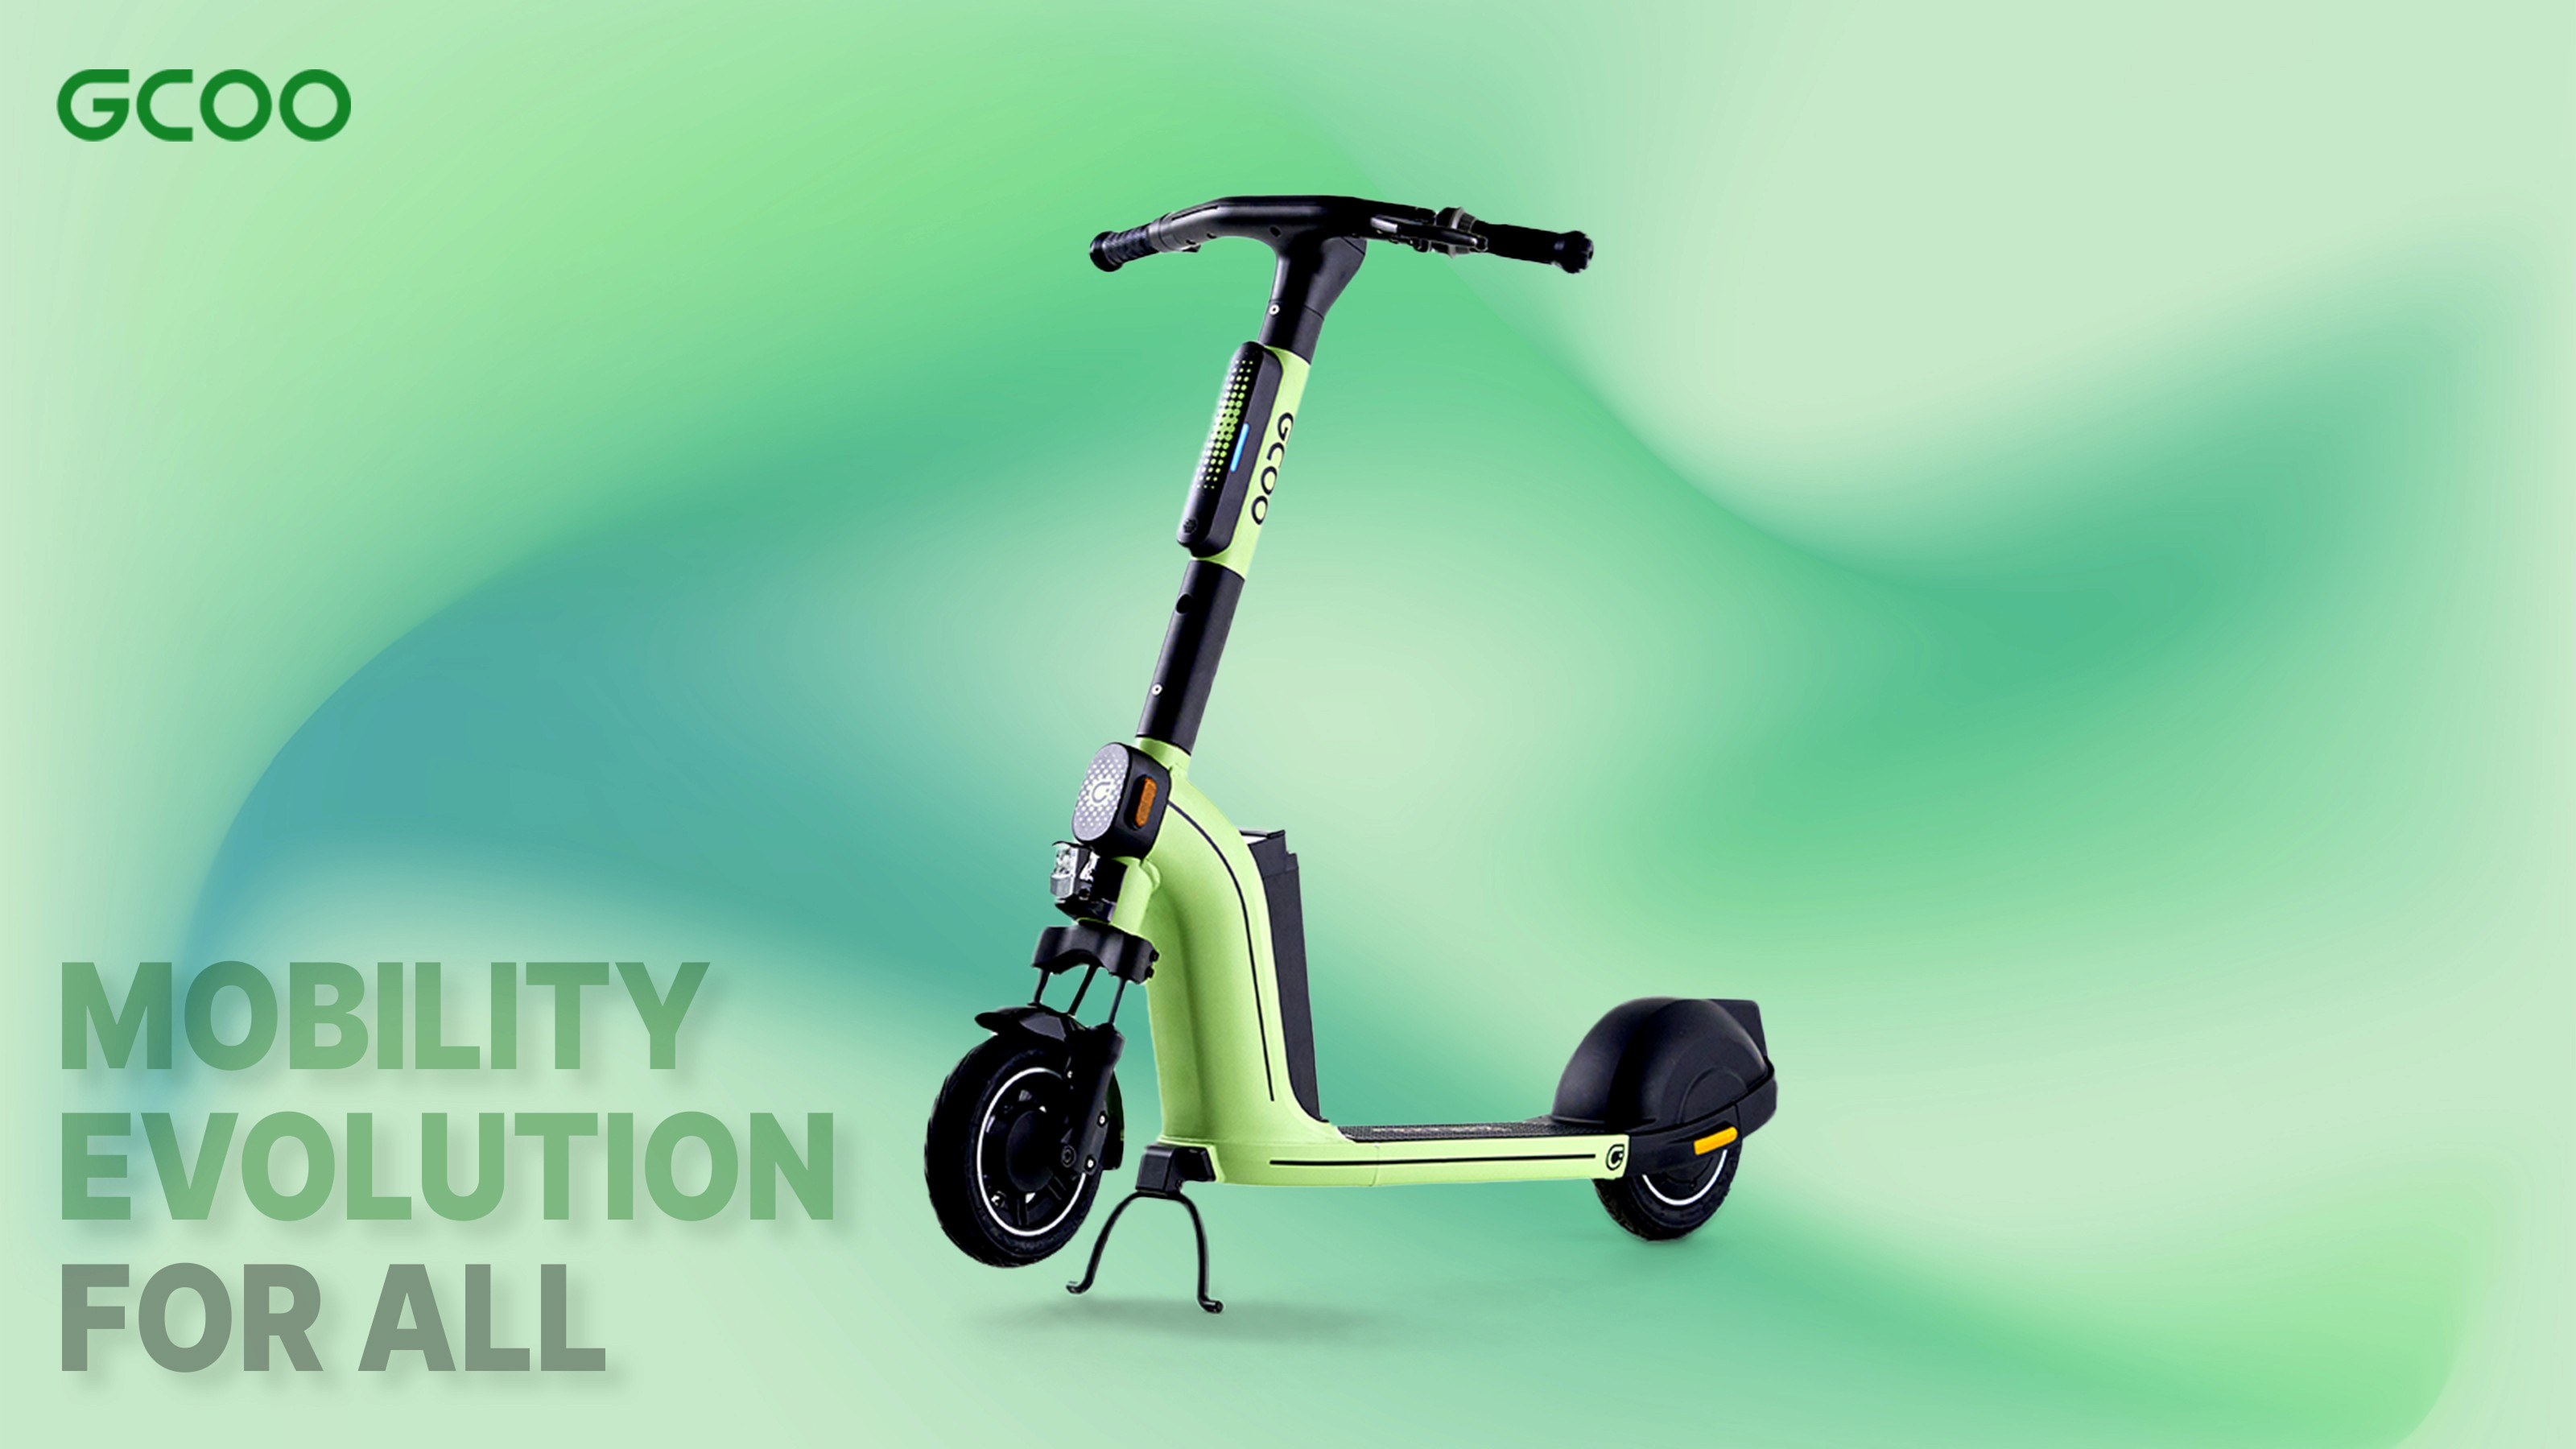kick_board: (922, 196, 1771, 1246)
kick_body: (1178, 1115, 1638, 1187)
kick_handler: (1090, 188, 1589, 297)
kick_neck: (1065, 262, 1323, 1023)
kick_wheel: (916, 1014, 1132, 1267), (1594, 993, 1780, 1240)
